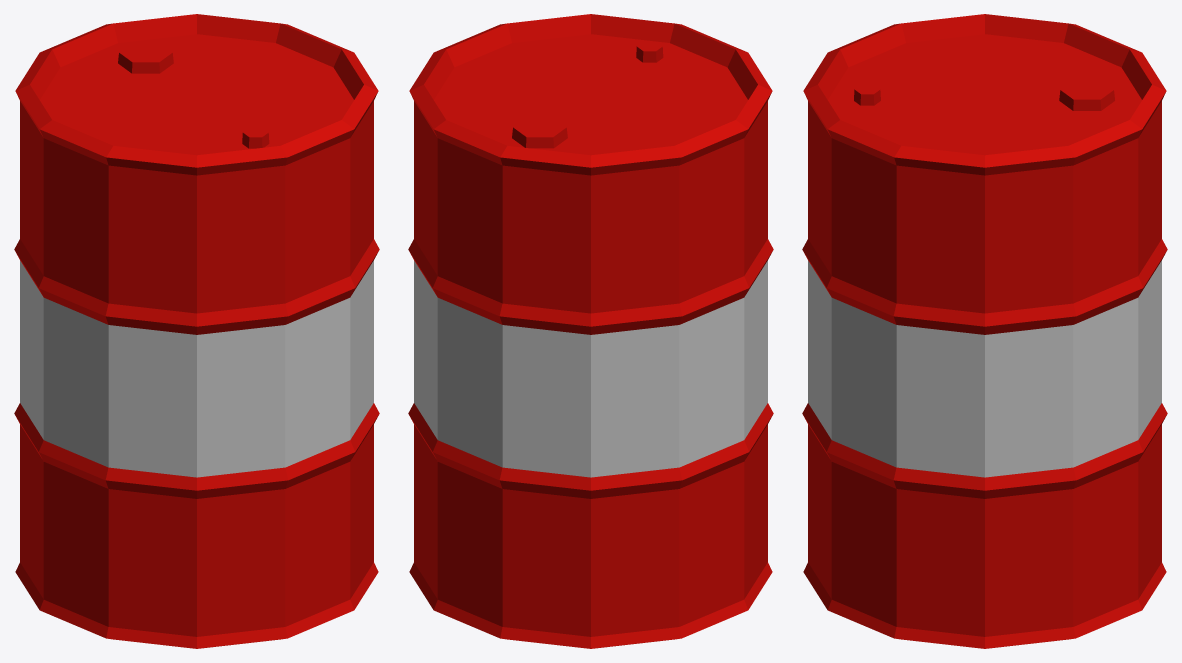
File: barrel02.fbx
3 views of the same model, side by side, from view 1: azimuth 30°, elevation 25°; view 2: azimuth 150°, elevation 25°; view 3: azimuth 270°, elevation 25° (orthographic).
Parts seen in each view (by area): view 1: barrel02; view 2: barrel02; view 3: barrel02.
Part boxes in pixels (x1,y1,x2,y2): barrel02: (14, 14, 379, 648); barrel02: (408, 14, 773, 648); barrel02: (802, 14, 1167, 648).
Bounding box in the file's own units: 0.806 × 0.806 × 1.2.
